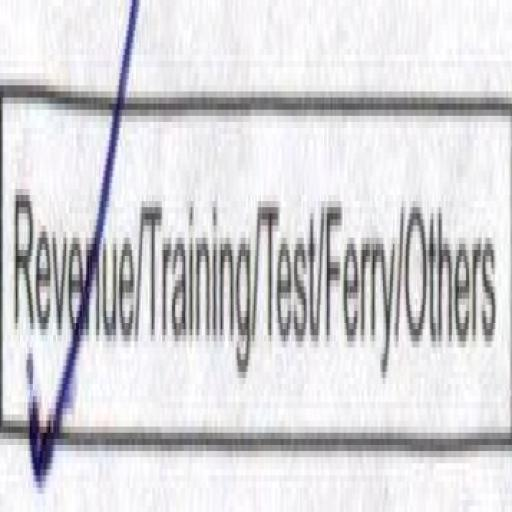check: (1, 27, 139, 510)
